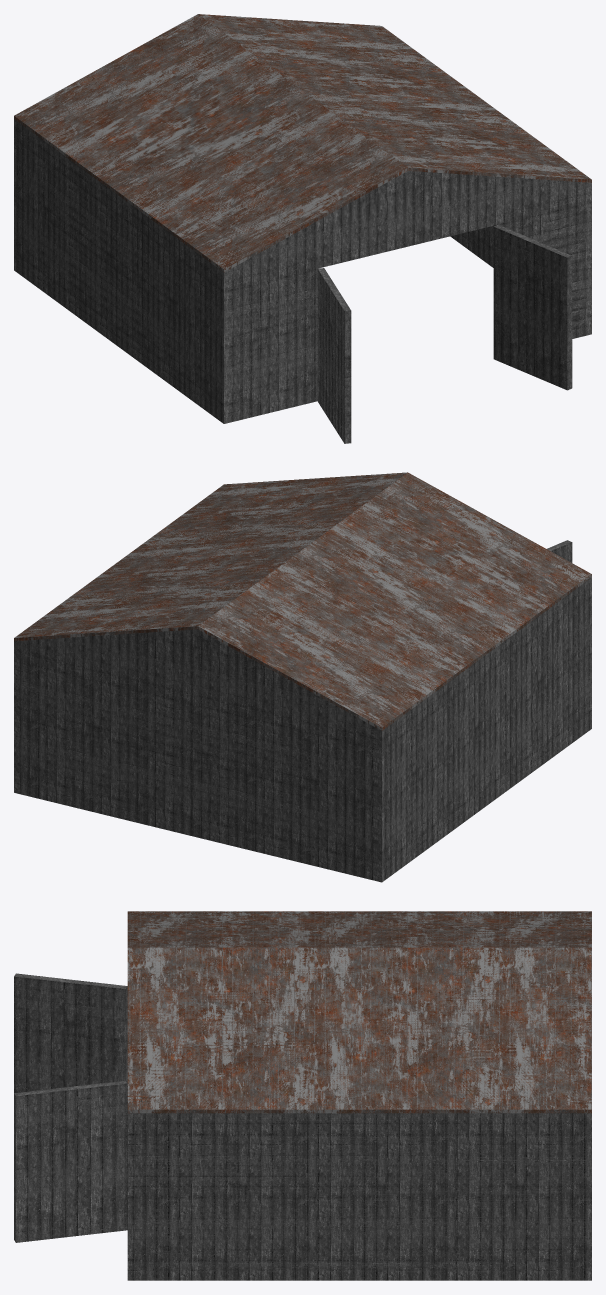
File: Low_Poly_Barn.fbx
The picture shows the model from 3 angles, top to bottom: view 1: azimuth 30°, elevation 25°; view 2: azimuth 150°, elevation 25°; view 3: azimuth 270°, elevation 25°; orthographic projection. The views are drawn at different scales.
Visible parts, largest first — view 1: Group5, Group6, Difference, Group14, Group15, Group8, Group7; view 2: Group5, Group3, Group6, Group12, Group7; view 3: Group5, Group7, Group14, Group8.
Boxes of the visible parts, left/top/right/bottom form: Group5: left=14, top=14, right=591, bottom=272; Group6: left=14, top=119, right=229, bottom=423; Difference: left=230, top=184, right=585, bottom=422; Group14: left=493, top=224, right=572, bottom=390; Group15: left=224, top=171, right=591, bottom=272; Group8: left=317, top=268, right=351, bottom=443; Group7: left=450, top=183, right=591, bottom=335; Group5: left=14, top=472, right=591, bottom=730; Group3: left=20, top=643, right=375, bottom=880; Group6: left=376, top=577, right=591, bottom=882; Group12: left=15, top=629, right=381, bottom=730; Group7: left=14, top=641, right=19, bottom=793; Group5: left=127, top=911, right=591, bottom=1113; Group7: left=127, top=1113, right=591, bottom=1280; Group14: left=14, top=1080, right=127, bottom=1242; Group8: left=14, top=973, right=127, bottom=1093.
Size of the model in its own units: 244 by 134 by 300.
